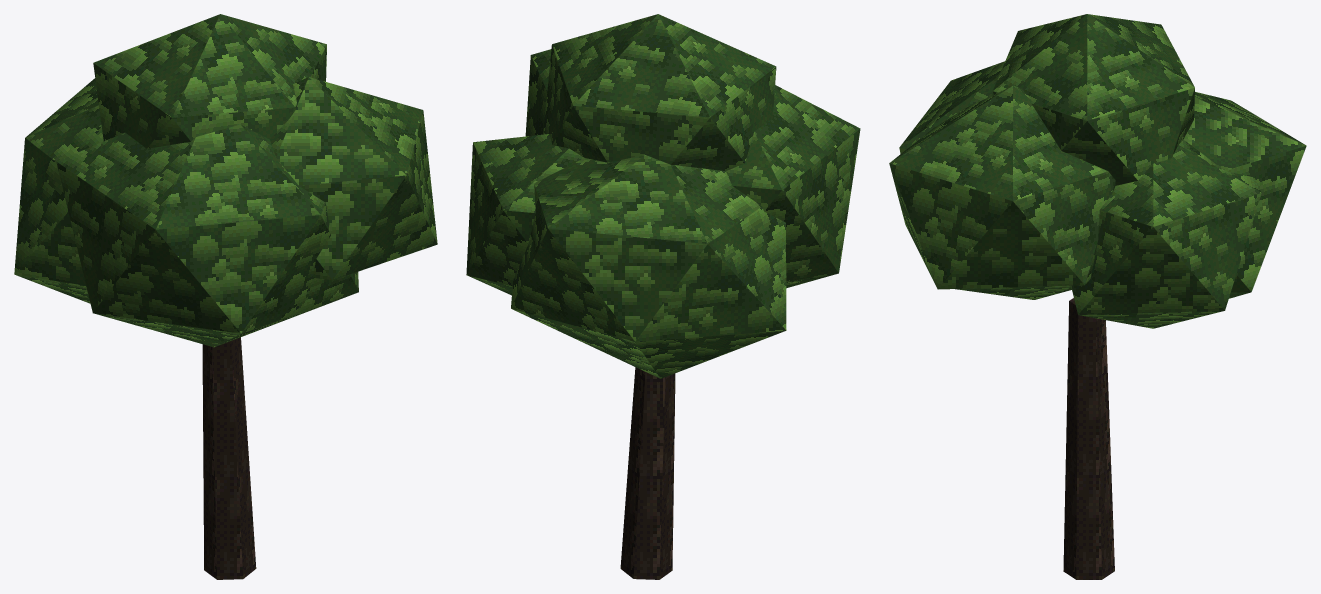
The model's file is arbol_roble.obj.
3 views of the same model, side by side, from view 1: azimuth 30°, elevation 25°; view 2: azimuth 150°, elevation 25°; view 3: azimuth 270°, elevation 25° (orthographic).
Visible parts, largest first — view 1: arbol_roble; view 2: arbol_roble; view 3: arbol_roble.
Boxes of the visible parts, box(x1,y1,x2,y2) form: arbol_roble: box(14, 14, 437, 579); arbol_roble: box(466, 14, 860, 579); arbol_roble: box(889, 14, 1306, 579).
Size of the model in its own units: 3.24 by 5.21 by 3.56.
Materials: 2 (2 with a texture image).
